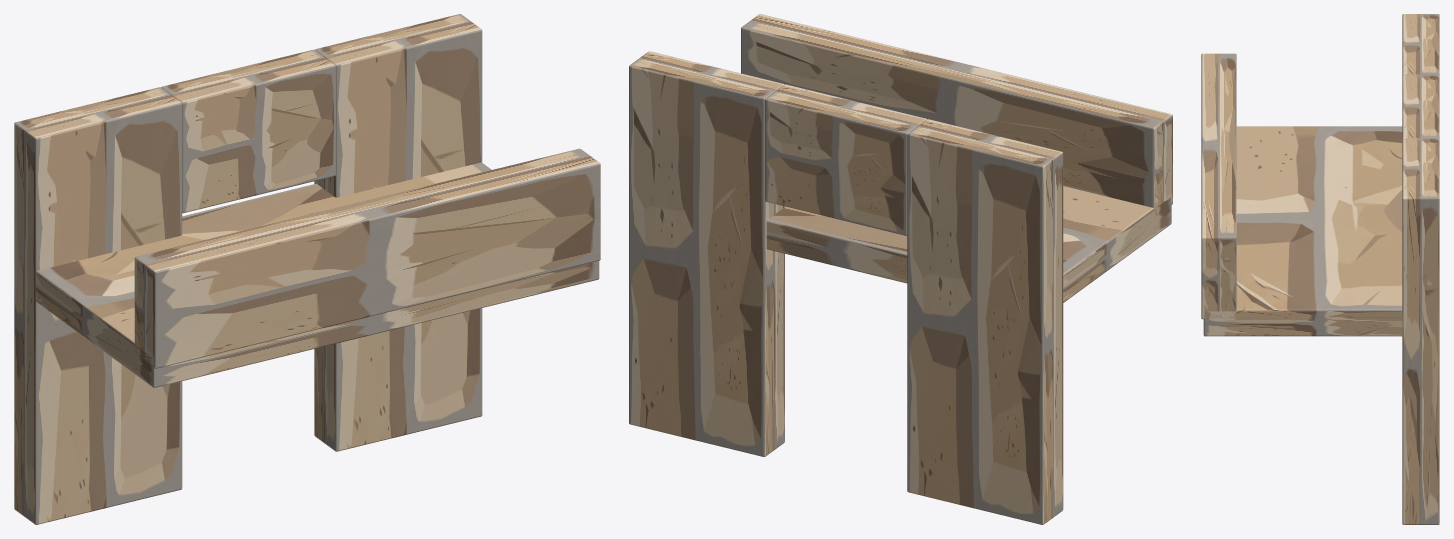
Rendered from balcony_combat_LOD2.glb.
The picture shows the model from 3 angles, left to right: view 1: azimuth 30°, elevation 25°; view 2: azimuth 150°, elevation 25°; view 3: azimuth 270°, elevation 25°; orthographic projection. The views are drawn at different scales.
Parts seen in each view (by area): view 1: LOD_FrontGuard.001, LOD_BackLeft.001, LOD_BackRight.001, LOD_Deck.001, LOD_BackLintel.001; view 2: LOD_BackLeft.001, LOD_BackRight.001, LOD_FrontGuard.001, LOD_BackLintel.001, LOD_Deck.001; view 3: LOD_Deck.001, LOD_BackRight.001, LOD_FrontGuard.001, LOD_BackLintel.001, LOD_BackLeft.001.
Boxes of the visible parts, x1,y1,x2,y2 form: LOD_FrontGuard.001: [134, 148, 600, 368]; LOD_BackLeft.001: [14, 87, 182, 524]; LOD_BackRight.001: [314, 14, 482, 451]; LOD_Deck.001: [36, 162, 599, 387]; LOD_BackLintel.001: [161, 49, 335, 213]; LOD_BackLeft.001: [907, 119, 1063, 524]; LOD_BackRight.001: [629, 51, 784, 456]; LOD_FrontGuard.001: [741, 14, 1172, 216]; LOD_BackLintel.001: [765, 84, 926, 235]; LOD_Deck.001: [766, 186, 1171, 302]; LOD_Deck.001: [1203, 126, 1402, 336]; LOD_BackRight.001: [1402, 138, 1439, 524]; LOD_FrontGuard.001: [1201, 53, 1236, 319]; LOD_BackLintel.001: [1402, 74, 1439, 137]; LOD_BackLeft.001: [1402, 14, 1439, 74].
Bounding box in the file's own units: 4.41 × 3.65 × 2.41.
Materials: 1 (1 with a texture image).
